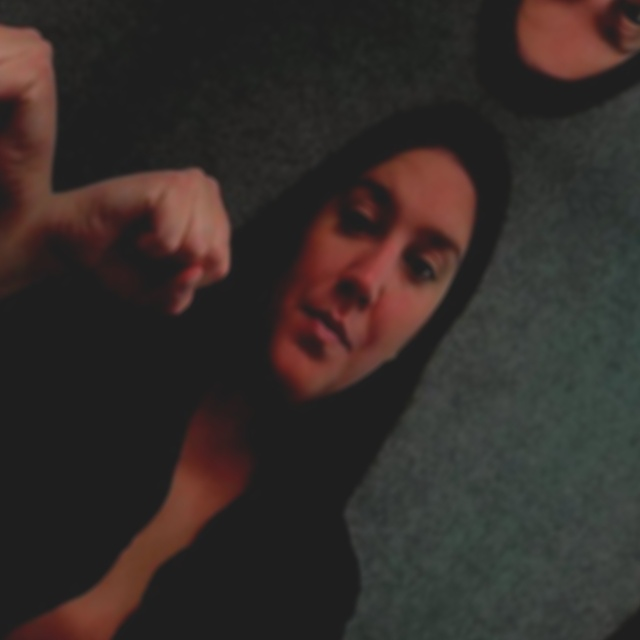Rock: (0, 0, 122, 233)
